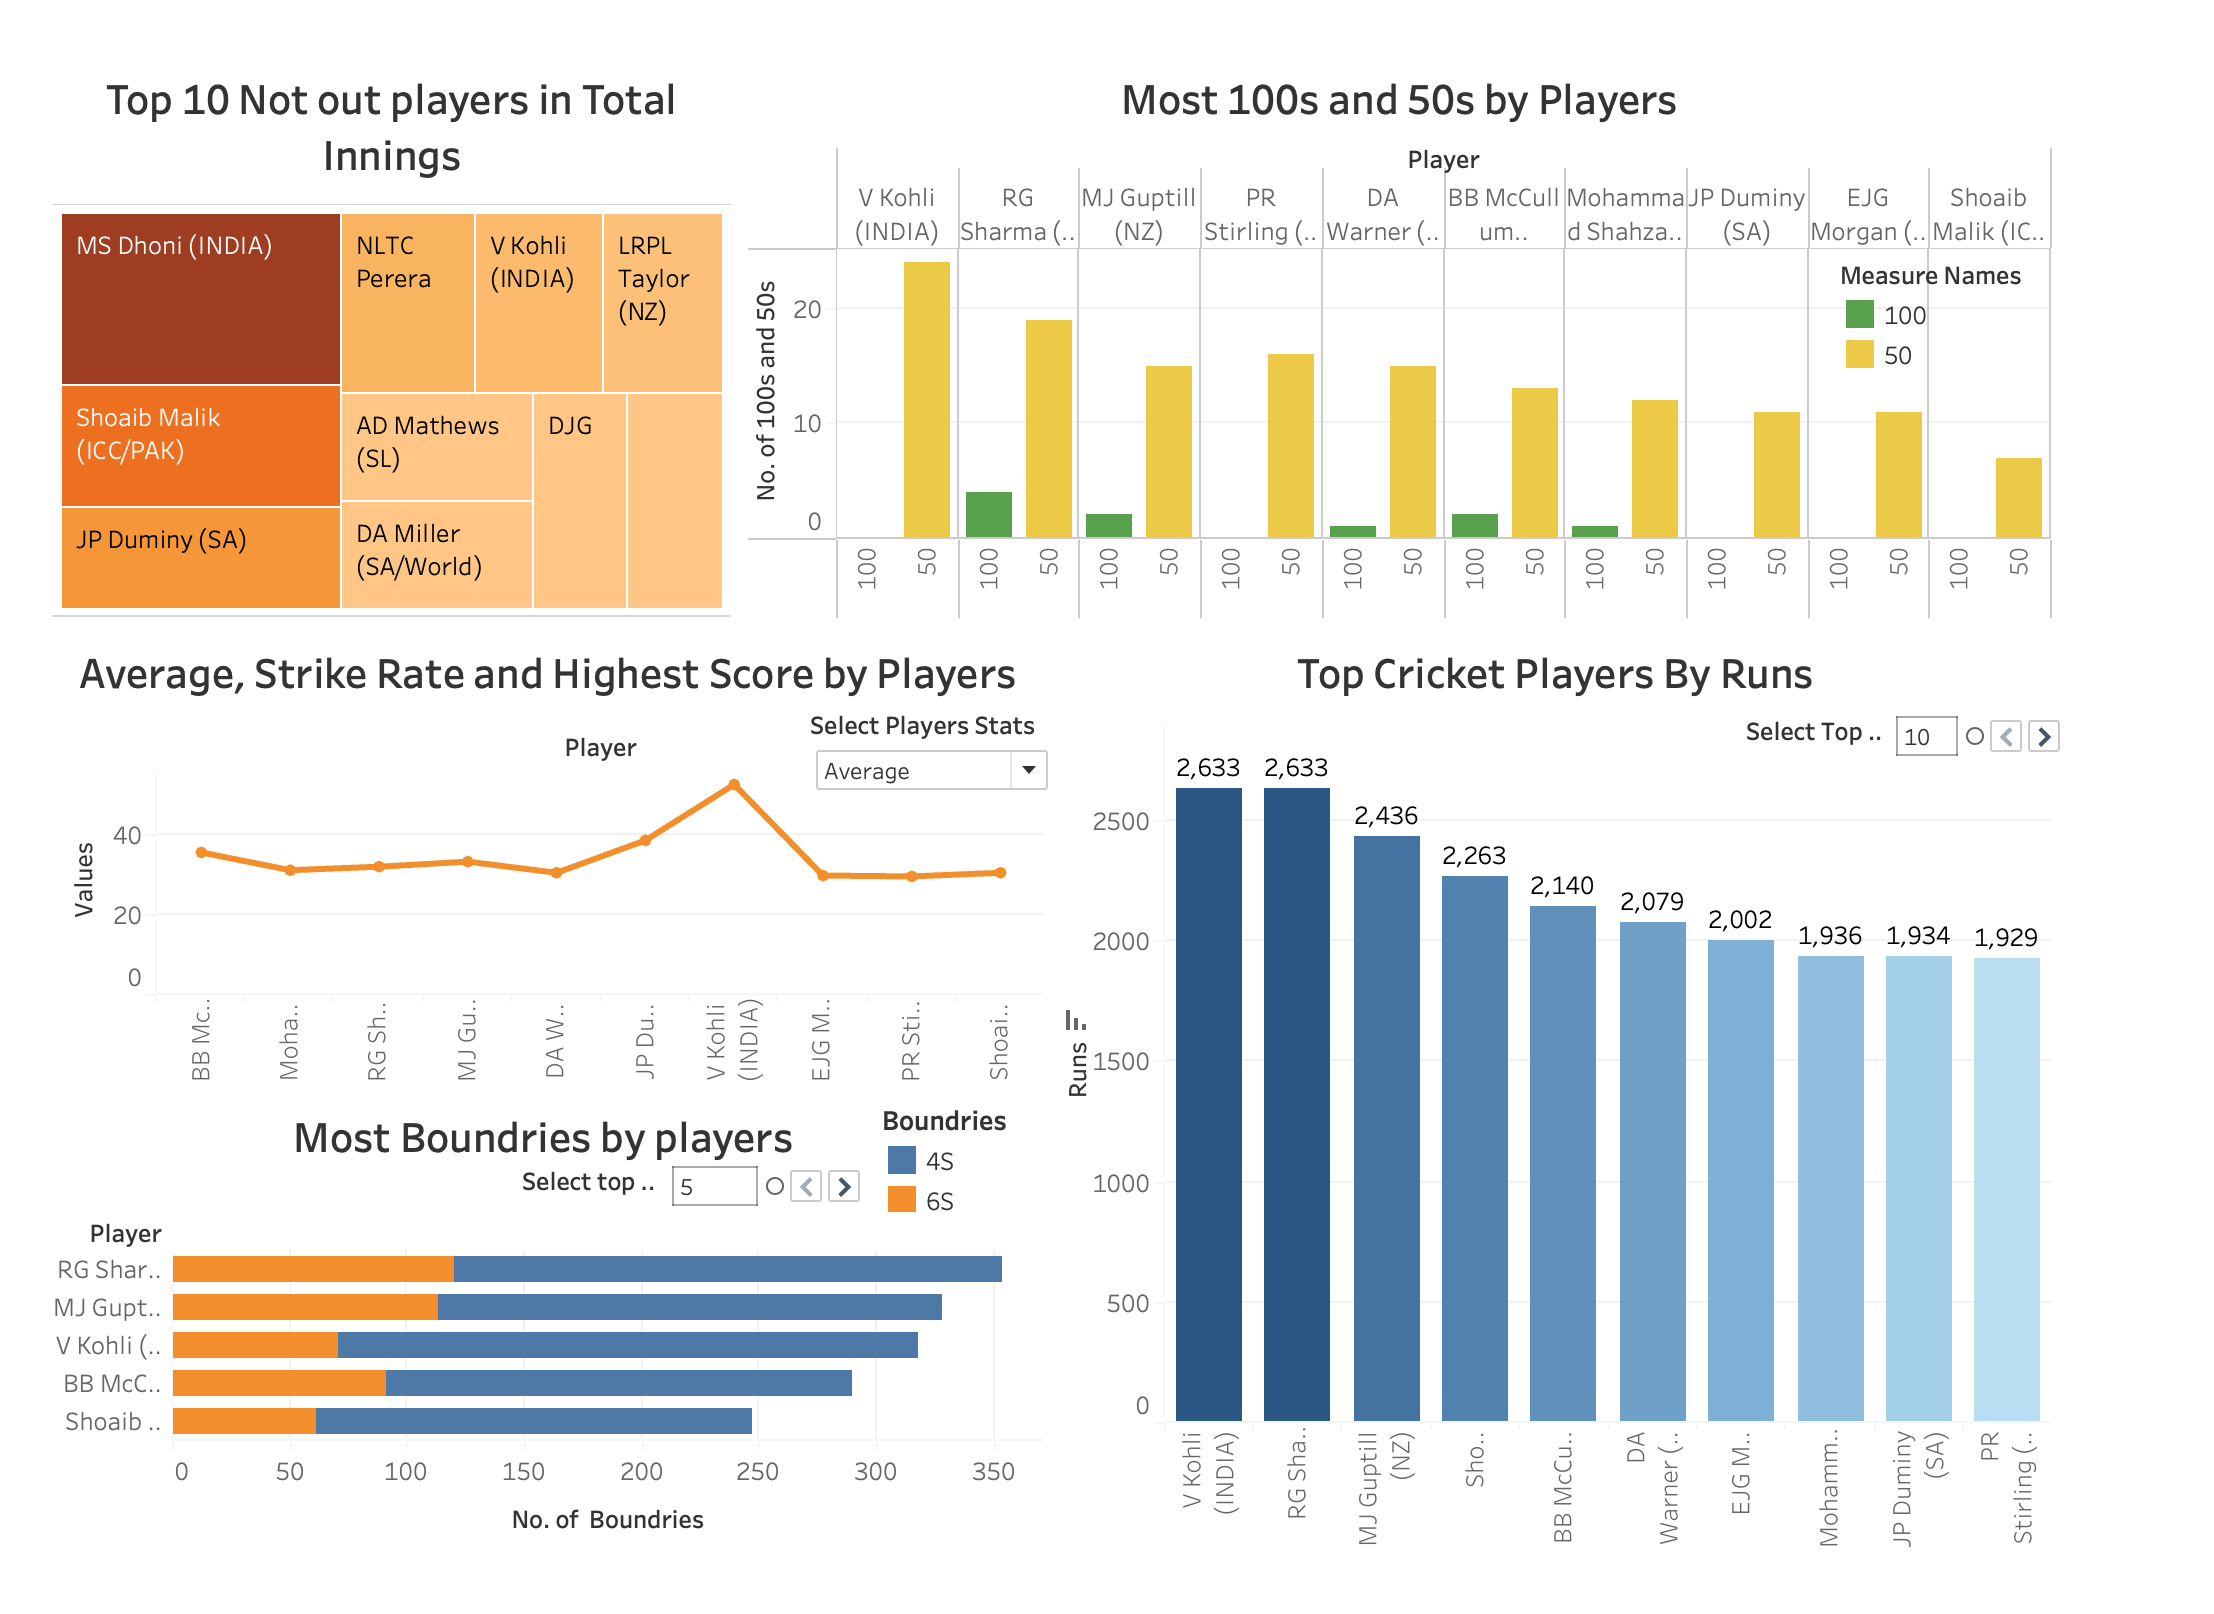

What the dashboard file says about the page in this screenshot:
{"tool":"tableau","page":{"name":"T20 player's Dashboard","canvas":[1024,768],"ordinal":5},"visuals":[{"type":"worksheet","title":"Top 10 Not out players","mark":"Automatic","box":[8,8,348.3,286.8]},{"type":"worksheet","title":"Most 100 and 50","mark":"Automatic","cols":["Player"],"box":[356.3,8,659.7,286.8]},{"type":"legend","title":"Most 100 and 50","param":"[federated.1d1vdhb0kooepm1acbi5z0xqp1hr].[:Measure Names]","box":[906,110,103,58]},{"type":"worksheet","title":"Player's Stats","mark":"Line","rows":["Calculation_4846858366031454220"],"cols":["Player"],"box":[8,294.9,503.8,232.6]},{"type":"worksheet","title":"Top 10 players by max runs","mark":"Automatic","rows":["Runs"],"cols":["Player"],"box":[511.8,294.9,504.2,465.1]},{"type":"parameter","param":"[Parameters].[Parameter 5]","box":[391,335,122,45]},{"type":"parameter","param":"[Parameters].[Parameter 1]","box":[859,336,160,23]},{"type":"worksheet","title":"Most Boundries by players ","mark":"Bar","rows":["Player"],"box":[8,527.4,503.8,232.6]},{"type":"legend","title":"Most Boundries by players ","param":"[federated.1d1vdhb0kooepm1acbi5z0xqp1hr].[:Measure Names]","box":[427,532,76,55]},{"type":"parameter","param":"[Parameters].[Parameter 2]","box":[247,561,172,27]}]}

Visuals, with their boxes in screenshot pixels (x1, y1, x2, y2), scaled from the page's 1024x768 canvas onto the 2214x1614 screenshot:
"Top 10 Not out players" worksheet: {"left": 17, "top": 17, "right": 770, "bottom": 620}
"Most 100 and 50" worksheet: {"left": 770, "top": 17, "right": 2197, "bottom": 620}
"Most 100 and 50" legend: {"left": 1959, "top": 231, "right": 2182, "bottom": 353}
"Player's Stats" worksheet (Line marks): {"left": 17, "top": 620, "right": 1107, "bottom": 1109}
"Top 10 players by max runs" worksheet: {"left": 1107, "top": 620, "right": 2197, "bottom": 1597}
parameter: {"left": 845, "top": 704, "right": 1109, "bottom": 799}
parameter: {"left": 1857, "top": 706, "right": 2203, "bottom": 754}
"Most Boundries by players " worksheet (Bar marks): {"left": 17, "top": 1108, "right": 1107, "bottom": 1597}
"Most Boundries by players " legend: {"left": 923, "top": 1118, "right": 1088, "bottom": 1234}
parameter: {"left": 534, "top": 1179, "right": 906, "bottom": 1236}
